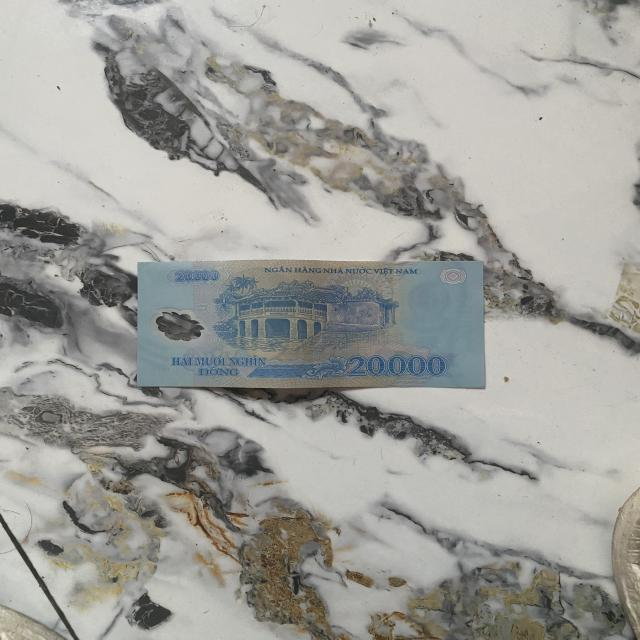20 000 VND: (134, 258, 488, 392)
